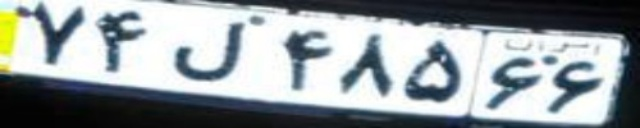4: (277, 28, 332, 91), (95, 10, 149, 74)
5: (403, 40, 459, 103)
6: (486, 56, 540, 110), (549, 61, 604, 113)
7: (31, 4, 85, 67)
8: (340, 33, 390, 96)
lam: (167, 19, 245, 82)
